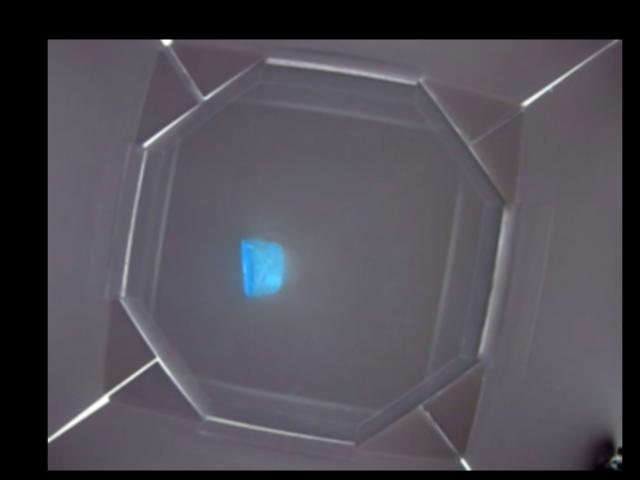Carrot: (238, 239, 283, 297)
